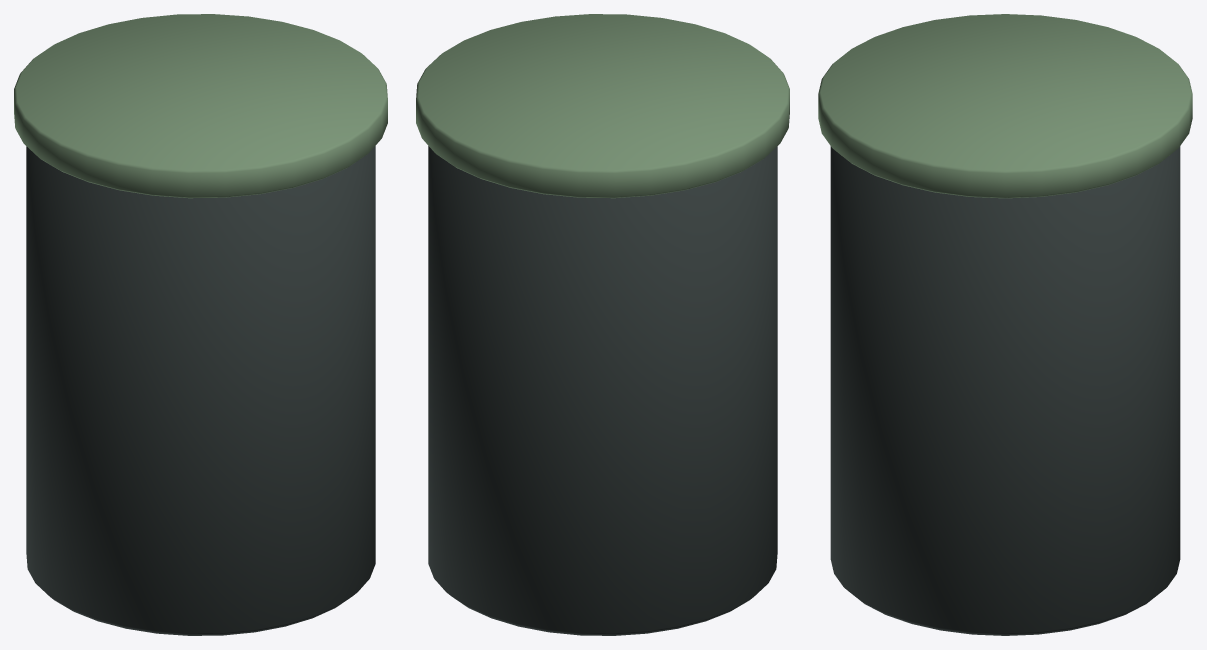
Rendered from SM_EG_UtilityBin_ba8f1de3d2.fbx.
3 views of the same model, side by side, from view 1: azimuth 30°, elevation 25°; view 2: azimuth 150°, elevation 25°; view 3: azimuth 270°, elevation 25° (orthographic).
Parts seen in each view (by area): view 1: SM_EG_UtilityBin_ba8f1de3d2; view 2: SM_EG_UtilityBin_ba8f1de3d2; view 3: SM_EG_UtilityBin_ba8f1de3d2.
Boxes of the visible parts, x1,y1,x2,y2 form: SM_EG_UtilityBin_ba8f1de3d2: (14, 14, 387, 635); SM_EG_UtilityBin_ba8f1de3d2: (416, 14, 789, 635); SM_EG_UtilityBin_ba8f1de3d2: (818, 14, 1192, 635).
Size of what is drawn, in the model's own units: 60 by 60 by 83.5.
